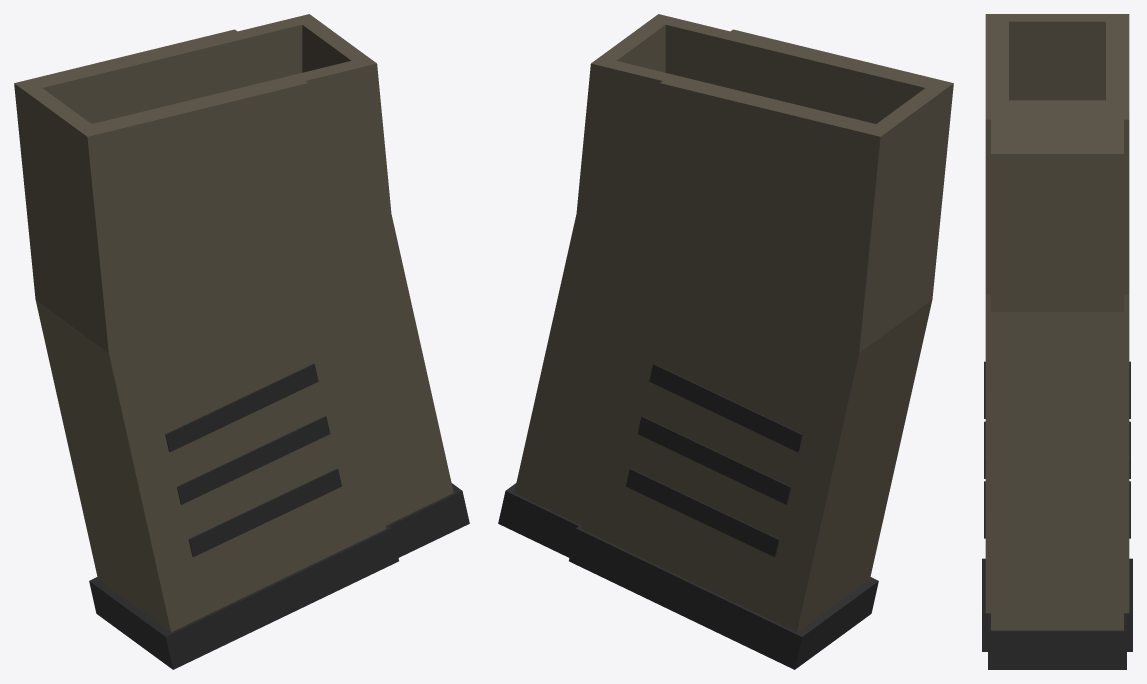
The model's file is SniperRifle6_04_2.fbx.
3 views of the same model, side by side, from view 1: azimuth 30°, elevation 25°; view 2: azimuth 150°, elevation 25°; view 3: azimuth 270°, elevation 25° (orthographic).
Visible parts, largest first — view 1: SniperRifle6_04_2; view 2: SniperRifle6_04_2; view 3: SniperRifle6_04_2.
Part boxes in pixels (x1,y1,x2,y2): SniperRifle6_04_2: [14, 14, 469, 669]; SniperRifle6_04_2: [498, 14, 953, 669]; SniperRifle6_04_2: [982, 14, 1132, 669].
Size of the model in its own units: 0.0906 by 0.1246 by 0.0314.
